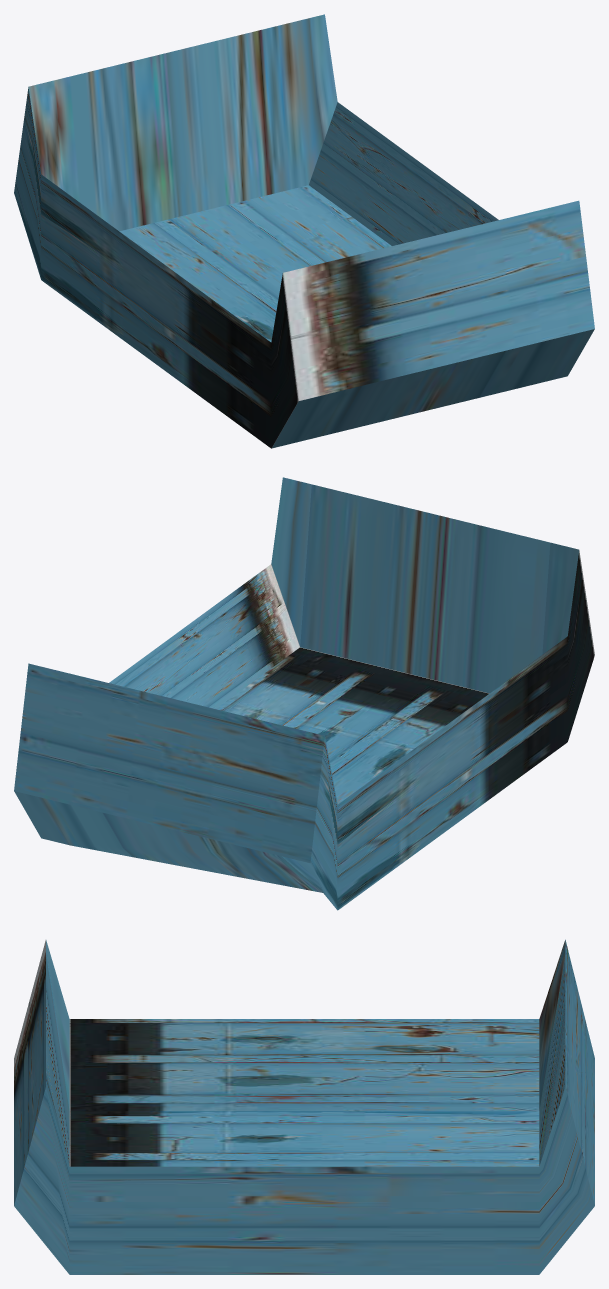
Rendered from brodic.glb.
3 views of the same model, one above another, from view 1: azimuth 30°, elevation 25°; view 2: azimuth 150°, elevation 25°; view 3: azimuth 270°, elevation 25° (orthographic). The views are drawn at different scales.
Visible parts, largest first — view 1: Cube; view 2: Cube; view 3: Cube.
Boxes of the visible parts, x1,y1,x2,y2 form: Cube: (14, 14, 594, 448); Cube: (14, 477, 594, 910); Cube: (14, 939, 594, 1274).
Size of the model in its own units: 6.16 by 3.66 by 10.25.
Materials: 1 (1 with a texture image).
